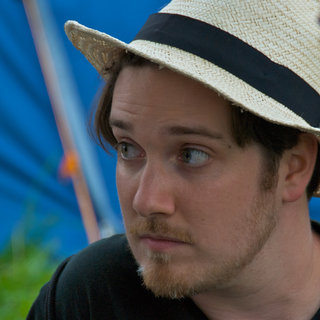eye: (169, 141, 217, 172), (110, 135, 149, 162)
